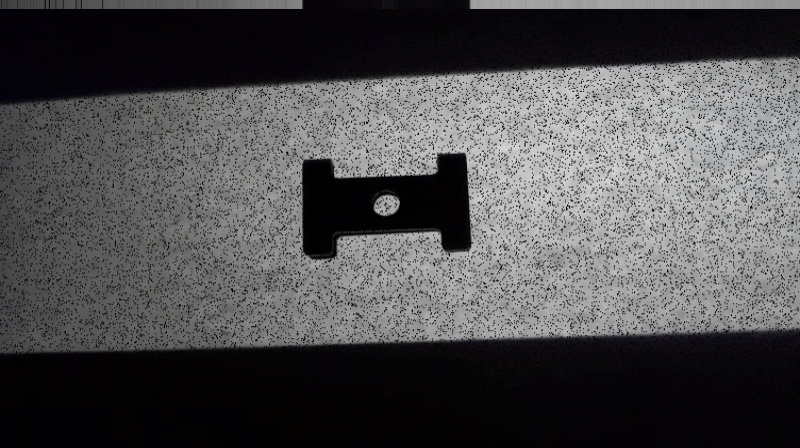O002: (295, 147, 472, 262)
